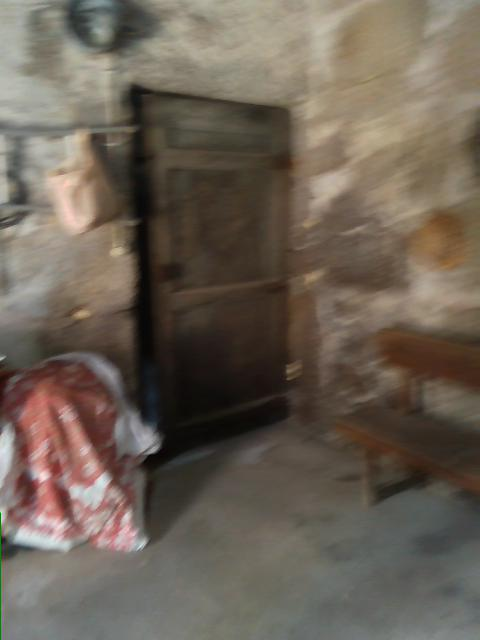door: (129, 85, 293, 460)
